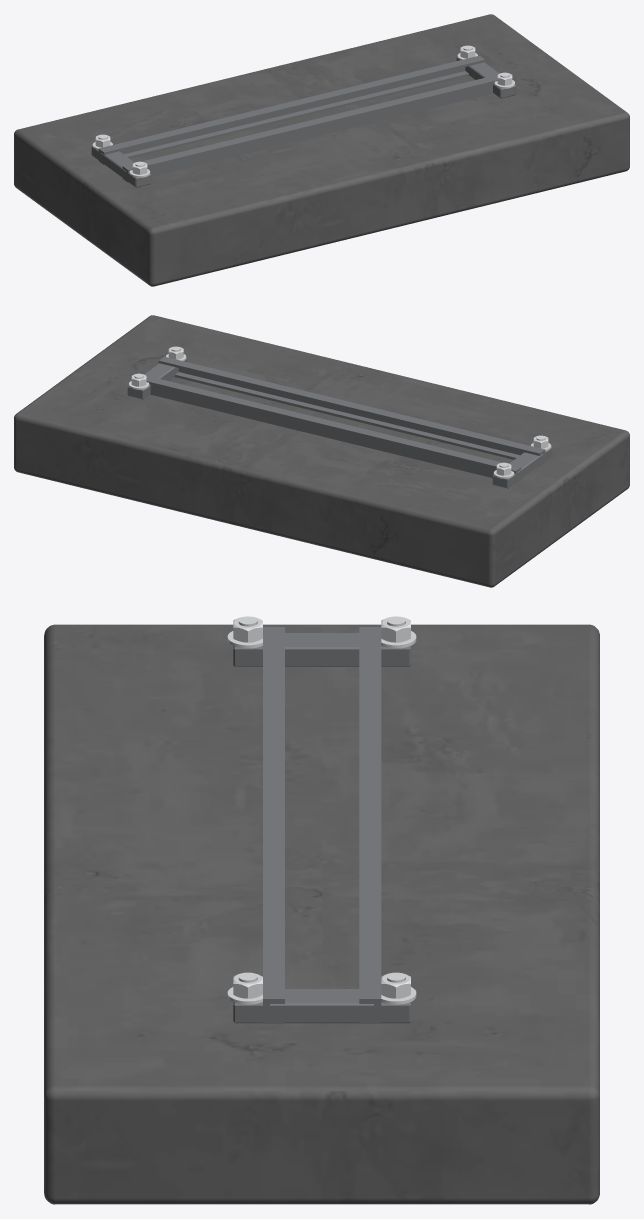
The model's file is stand.glb.
3 renders of one model, top to bottom at view 1: azimuth 30°, elevation 25°; view 2: azimuth 150°, elevation 25°; view 3: azimuth 270°, elevation 25°, orthographic. The views are drawn at different scales.
Parts seen in each view (by area): view 1: stand; view 2: stand; view 3: stand.
Part boxes in pixels (left/top/right/bottom): stand: left=14, top=14, right=629, bottom=286; stand: left=14, top=315, right=629, bottom=587; stand: left=44, top=616, right=599, bottom=1204.
Size of the model in its own units: 600 by 93.63 by 300.
Materials: 3 (1 with a texture image).
